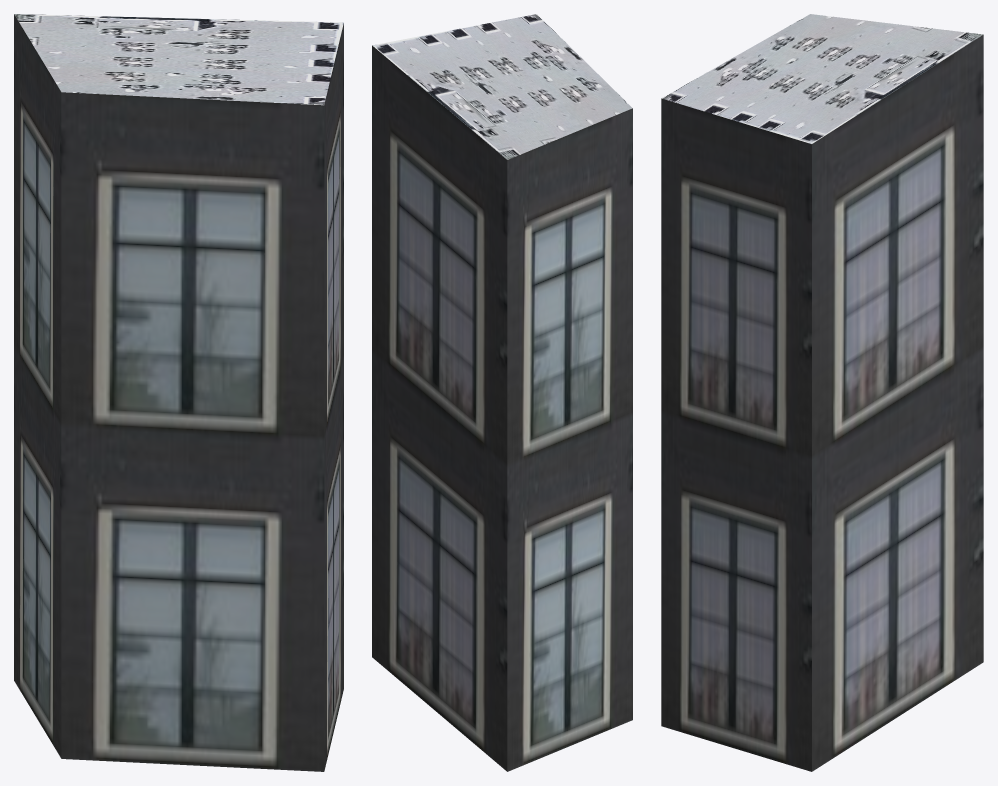
Rendered from ResTex__4409.fbx.
3 renders of one model, left to right at view 1: azimuth 30°, elevation 25°; view 2: azimuth 150°, elevation 25°; view 3: azimuth 270°, elevation 25°, orthographic. The views are drawn at different scales.
Parts seen in each view (by area): view 1: CityEngineMaterial_22_m, CityEngineMaterial_8_m; view 2: CityEngineMaterial_22_m, CityEngineMaterial_8_m; view 3: CityEngineMaterial_22_m, CityEngineMaterial_8_m.
Boxes of the visible parts, <box> form: CityEngineMaterial_22_m: <box>14,14,343,771</box>; CityEngineMaterial_8_m: <box>14,14,343,105</box>; CityEngineMaterial_22_m: <box>372,45,632,771</box>; CityEngineMaterial_8_m: <box>372,14,632,159</box>; CityEngineMaterial_22_m: <box>661,34,983,771</box>; CityEngineMaterial_8_m: <box>661,14,983,143</box>.
Size of the model in its own units: 2.67 by 6 by 2.79.
2 materials, 2 textured.
